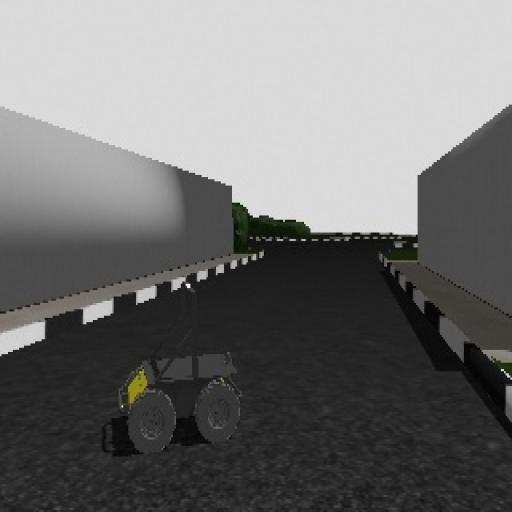huskya200: (100, 271, 264, 463)
